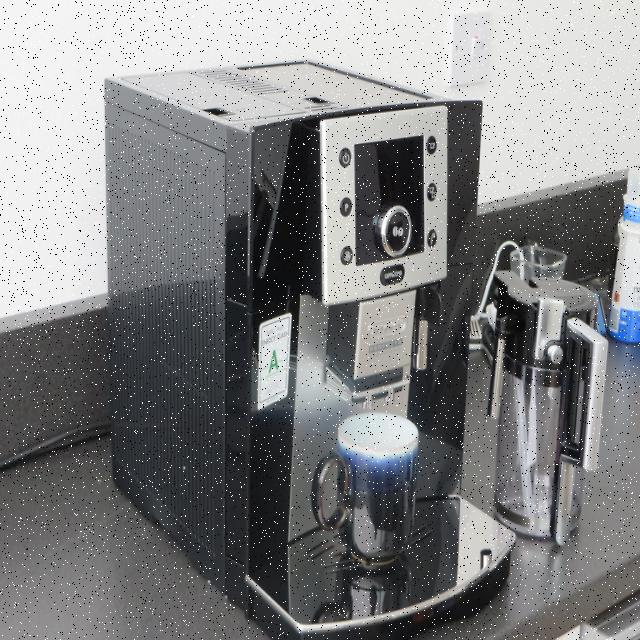Coffee-Machine: (104, 40, 516, 640)
